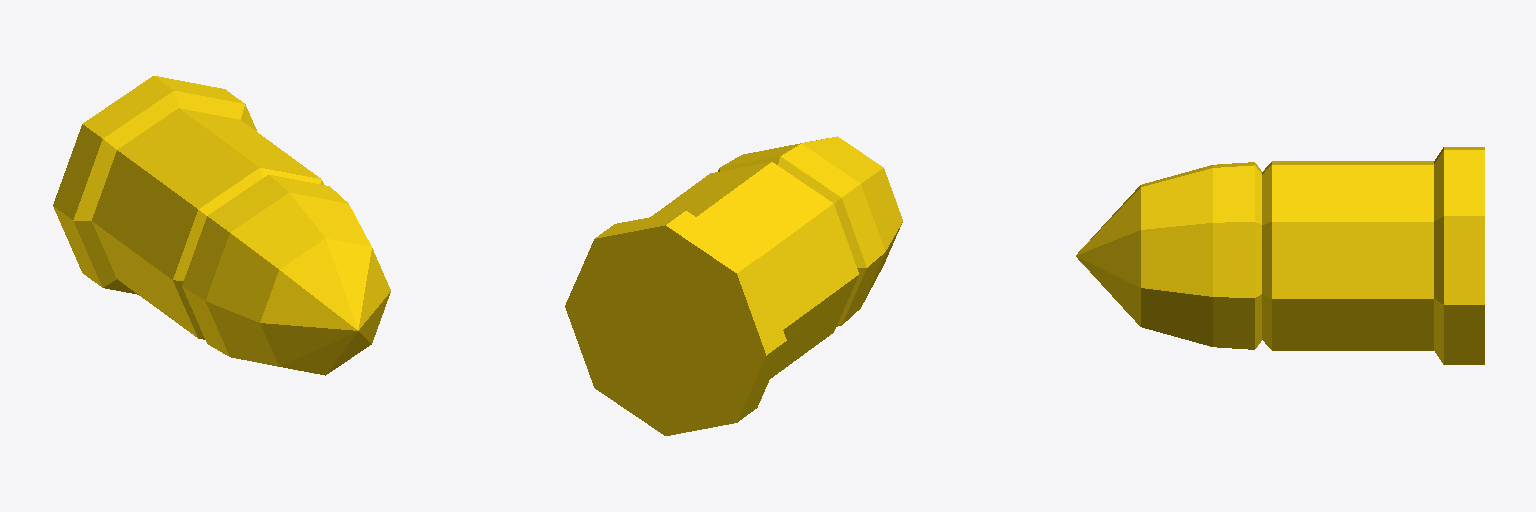
Rendered from Bala.obj.
3 renders of one model, left to right at view 1: azimuth 30°, elevation 25°; view 2: azimuth 150°, elevation 25°; view 3: azimuth 270°, elevation 25°, orthographic.
Visible parts, largest first — view 1: Shell_Mesh.006; view 2: Shell_Mesh.006; view 3: Shell_Mesh.006.
Part boxes in pixels (left/top/right/bottom): Shell_Mesh.006: left=53, top=76, right=390, bottom=375; Shell_Mesh.006: left=565, top=136, right=902, bottom=435; Shell_Mesh.006: left=1076, top=147, right=1484, bottom=364.
Bounding box in the file's own units: 0.2987 × 0.2987 × 0.5253.